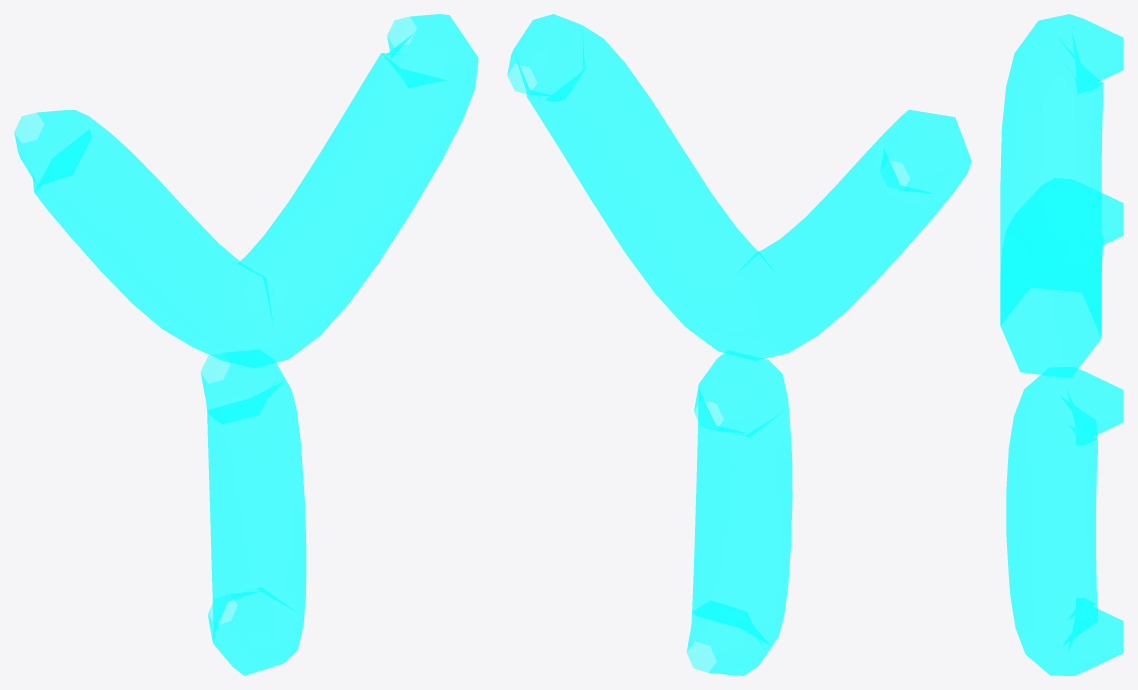
3 views of the same model, side by side, from view 1: azimuth 30°, elevation 25°; view 2: azimuth 150°, elevation 25°; view 3: azimuth 270°, elevation 25° (orthographic). The views are drawn at different scales.
Parts seen in each view (by area): view 1: Object_56; view 2: Object_56; view 3: Object_56.
Boxes of the visible parts, box(x1,y1,x2,y2) form: Object_56: box(14, 14, 478, 675); Object_56: box(507, 14, 971, 675); Object_56: box(1000, 14, 1123, 675).
Size of the model in its own units: 0.6702 by 0.8619 by 0.1707.
